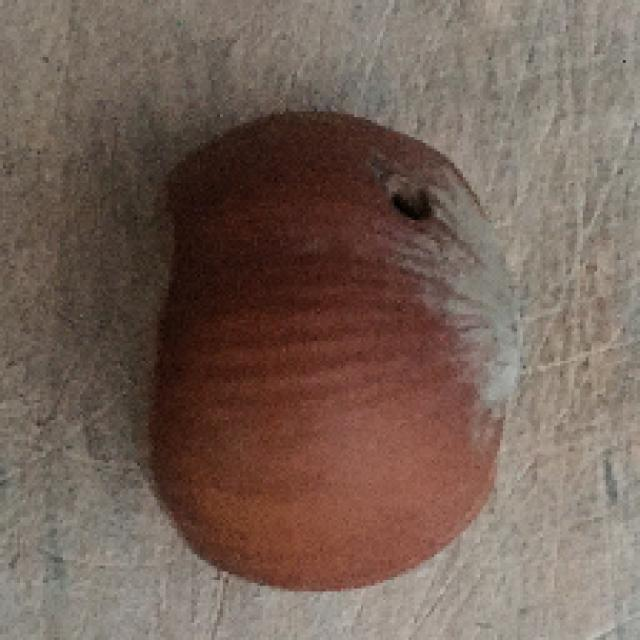DamagedHazelnut: (134, 108, 525, 596)
